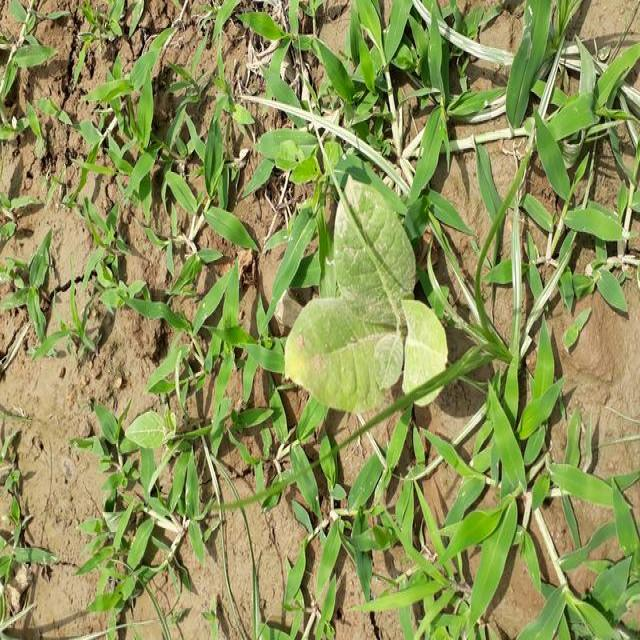crop: (285, 172, 448, 410)
